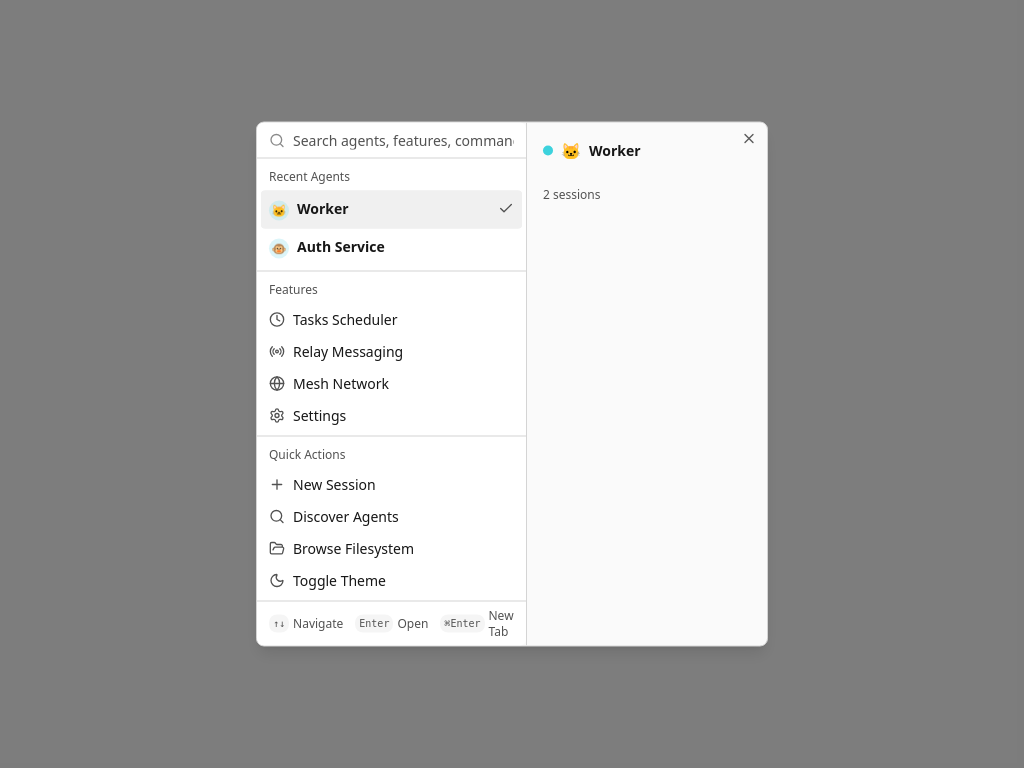
Test: CommandPaletteDialog › shows All Agents group when a non-@ search query is entered
Type "auth" into the dropdown with placeholder "Search agents, features, commands..." at (404, 140), box left=293, top=120, right=514, bottom=160
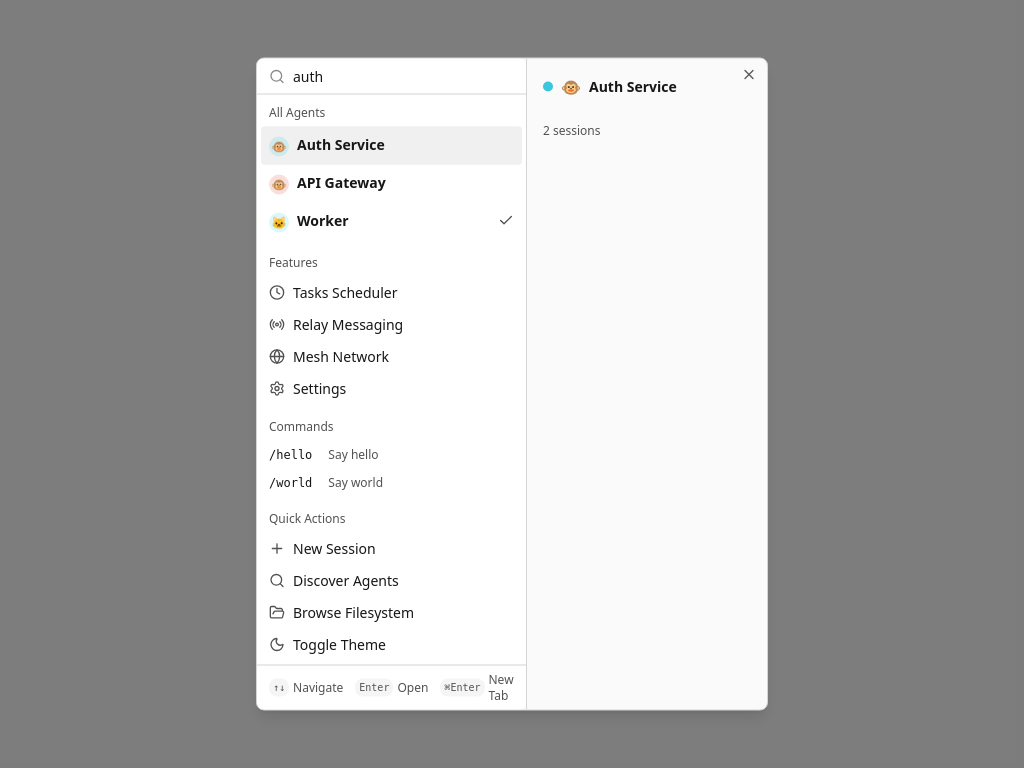
Now the text "All Agents" is shown, box left=269, top=104, right=325, bottom=120
